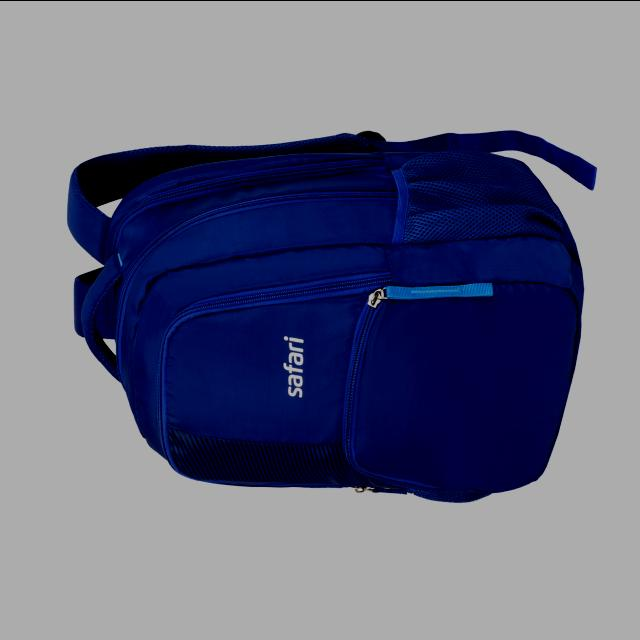backpack: (67, 130, 597, 504)
